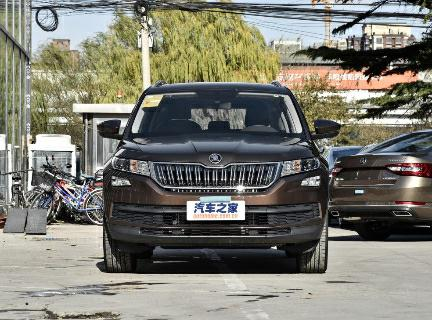斯柯达-柯迪亚克: (102, 80, 336, 271)
